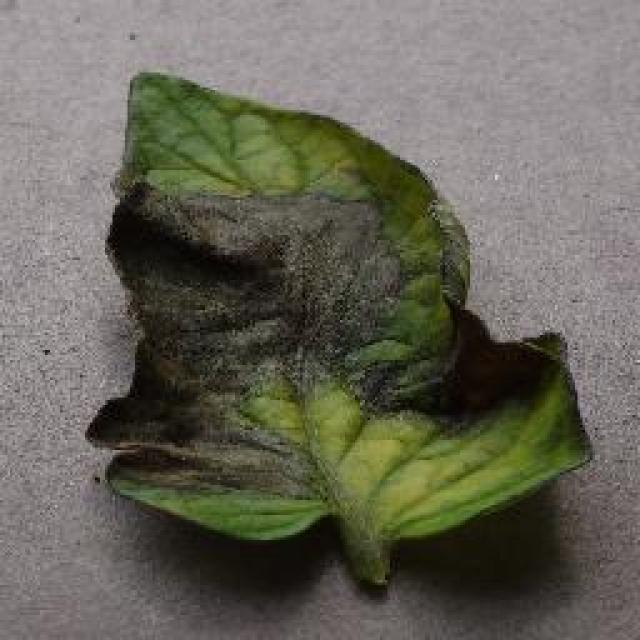Tomato Late Blight: (73, 148, 557, 490)
